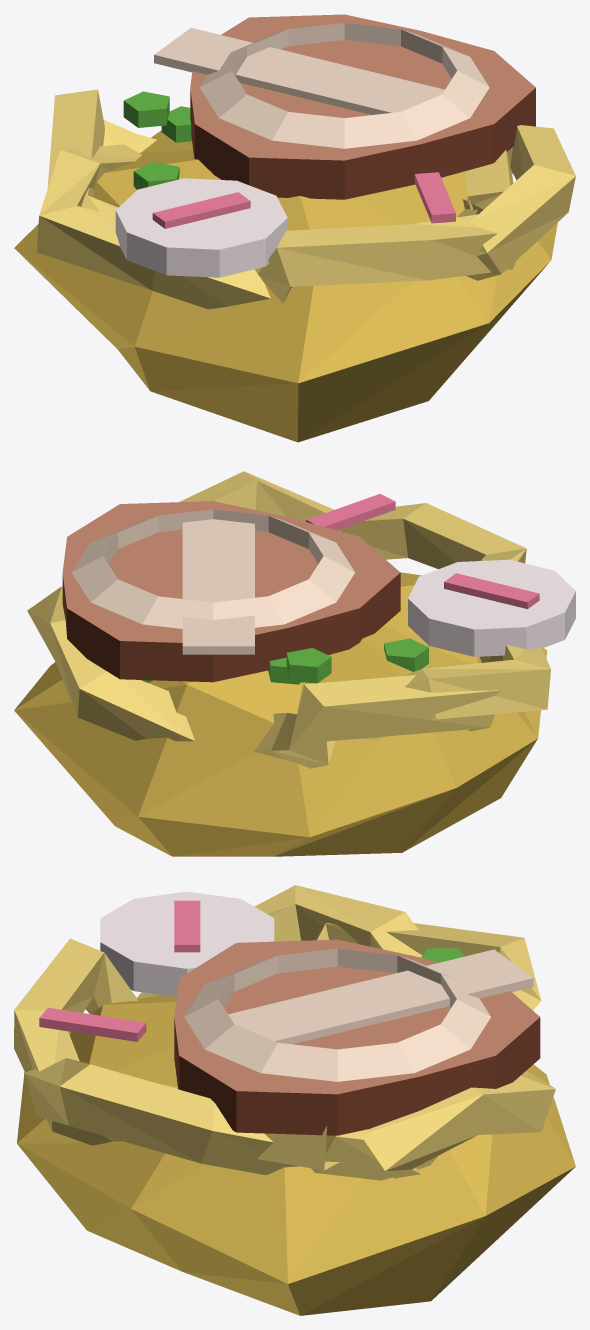
The model's file is food_noodle_clump.glb.
3 views of the same model, one above another, from view 1: azimuth 30°, elevation 25°; view 2: azimuth 150°, elevation 25°; view 3: azimuth 270°, elevation 25° (orthographic). The views are drawn at different scales.
Visible parts, largest first — view 1: food_noodle_clump; view 2: food_noodle_clump; view 3: food_noodle_clump.
Boxes of the visible parts, <box> form: food_noodle_clump: <box>14,14,575,442</box>; food_noodle_clump: <box>14,471,575,856</box>; food_noodle_clump: <box>14,885,575,1315</box>.
Bounding box in the file's own units: 0.0965 × 0.0478 × 0.086.
